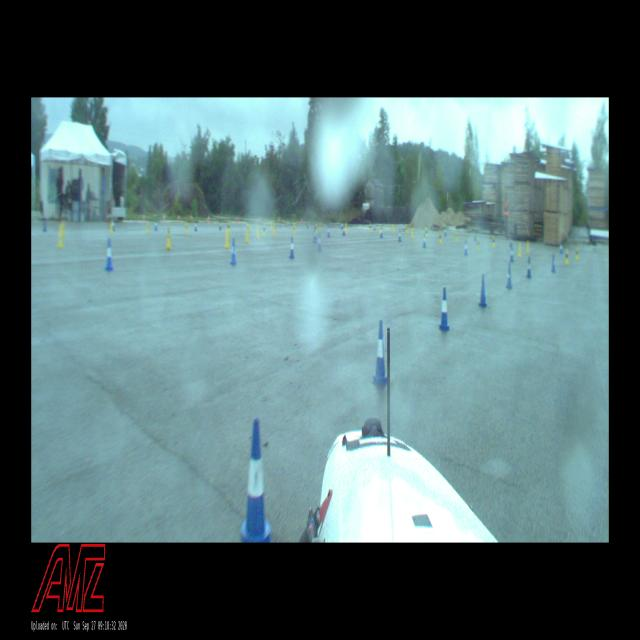blue_cone: (240, 418, 272, 543), (373, 320, 387, 384), (438, 287, 449, 331), (104, 238, 114, 270), (479, 274, 487, 308), (506, 264, 512, 289), (231, 239, 237, 264), (289, 237, 295, 259), (526, 256, 532, 278), (224, 228, 230, 248), (317, 234, 322, 252), (552, 254, 556, 273), (510, 246, 514, 262), (464, 240, 468, 255), (398, 230, 402, 242), (327, 225, 330, 238), (423, 235, 426, 248), (43, 220, 46, 232), (313, 230, 316, 241), (342, 225, 345, 236), (380, 228, 383, 238), (444, 227, 447, 236), (560, 243, 562, 253), (155, 220, 157, 230), (195, 222, 197, 231)
yellow_cone: (166, 232, 171, 249), (58, 231, 63, 248), (564, 249, 569, 265), (526, 240, 530, 256), (518, 242, 522, 256), (262, 224, 266, 237), (438, 232, 442, 244), (245, 230, 249, 242), (292, 223, 296, 234), (454, 232, 458, 242), (492, 235, 495, 248), (185, 222, 188, 234), (476, 238, 479, 250), (576, 248, 579, 260), (110, 222, 113, 234), (257, 227, 260, 238), (227, 222, 230, 232), (425, 227, 428, 236), (147, 222, 149, 234), (345, 225, 347, 234), (411, 229, 413, 238), (369, 224, 371, 232)
